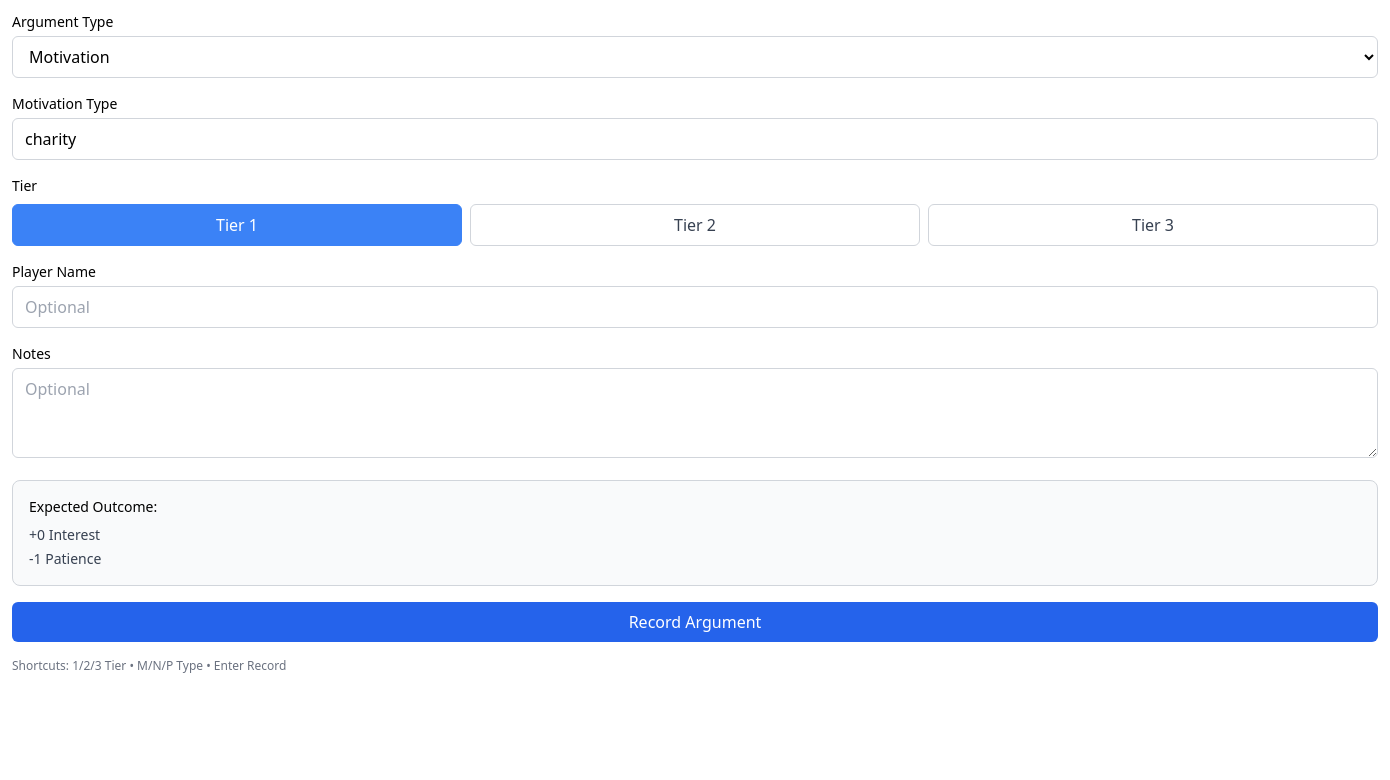
Test: ArgumentControls Component - Outcome Preview (Issue #403 - TDD RED) › Motivation Arguments - Draw Steel Rules › should show tier 2 motivation: +1 interest, -1 patience
Click the button "Tier 2": (695,225) [470,204,920,246]
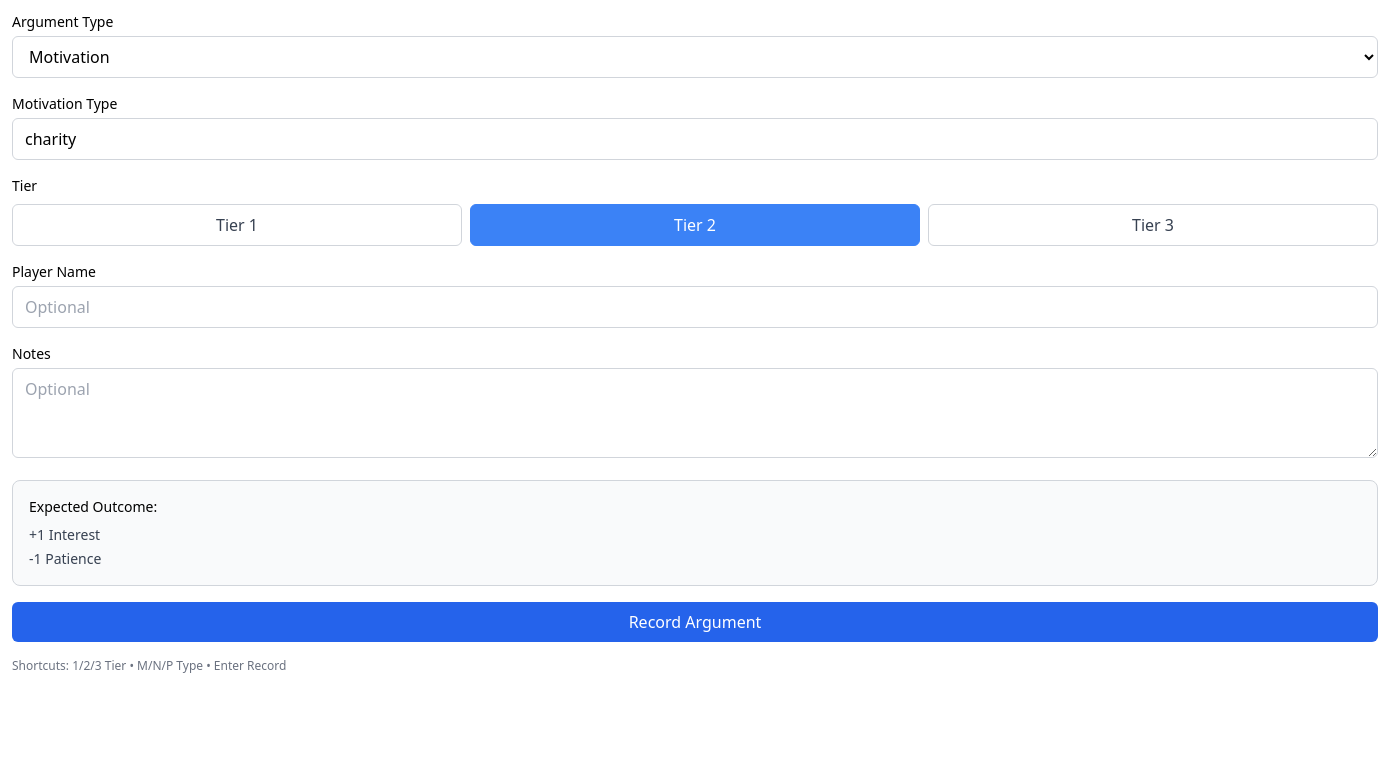
Expected: the text "-1 Patience" is shown, [29,549,101,568]
Expected: the text "+1 Interest" is shown, [29,525,100,544]
